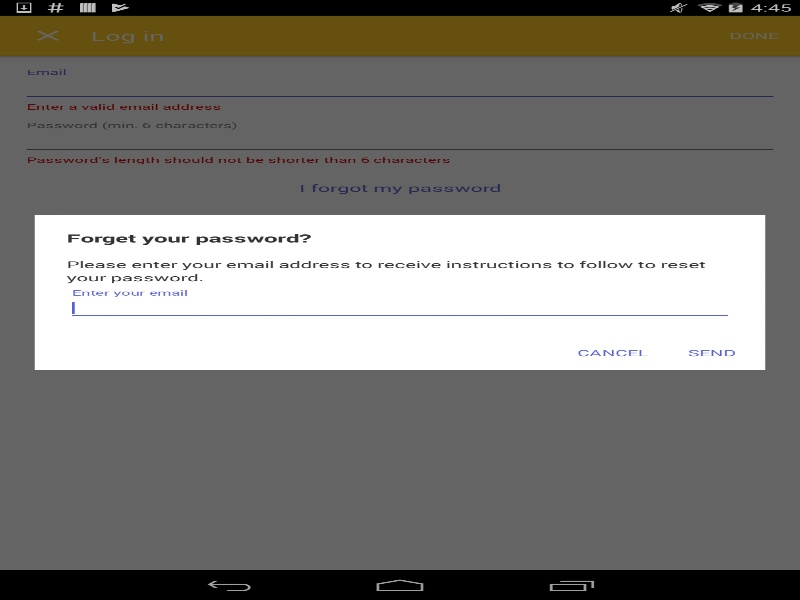Button: (566, 340, 658, 364), (669, 340, 754, 364)
Input: (66, 295, 733, 320)
